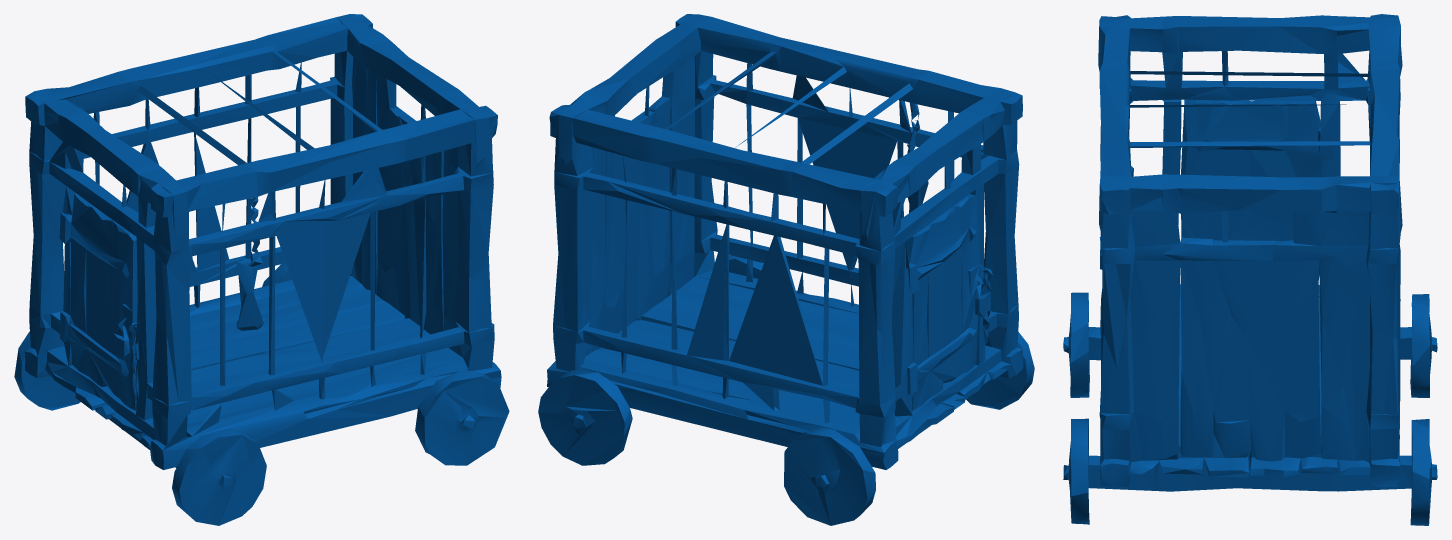
File: beast_cage.glb
3 renders of one model, left to right at view 1: azimuth 30°, elevation 25°; view 2: azimuth 150°, elevation 25°; view 3: azimuth 270°, elevation 25°, orthographic. The views are drawn at different scales.
Visible parts, largest first — view 1: beast_cage; view 2: beast_cage; view 3: beast_cage.
Boxes of the visible parts, x1=… form: beast_cage: x1=14, y1=14, x2=509, y2=525; beast_cage: x1=538, y1=14, x2=1034, y2=525; beast_cage: x1=1063, y1=14, x2=1437, y2=525.
Size of the model in its own units: 2.37 by 2.2 by 2.09.
1 material, 1 textured.
